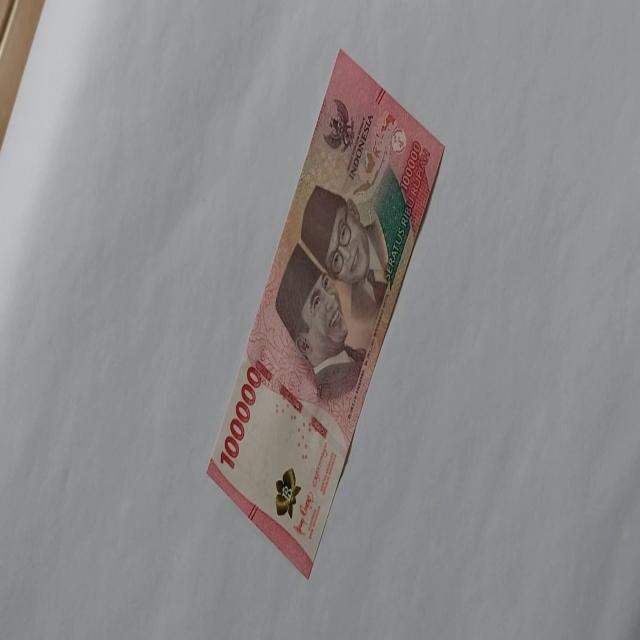seratus ribu rupiah: (205, 47, 446, 579), (274, 182, 389, 400)
